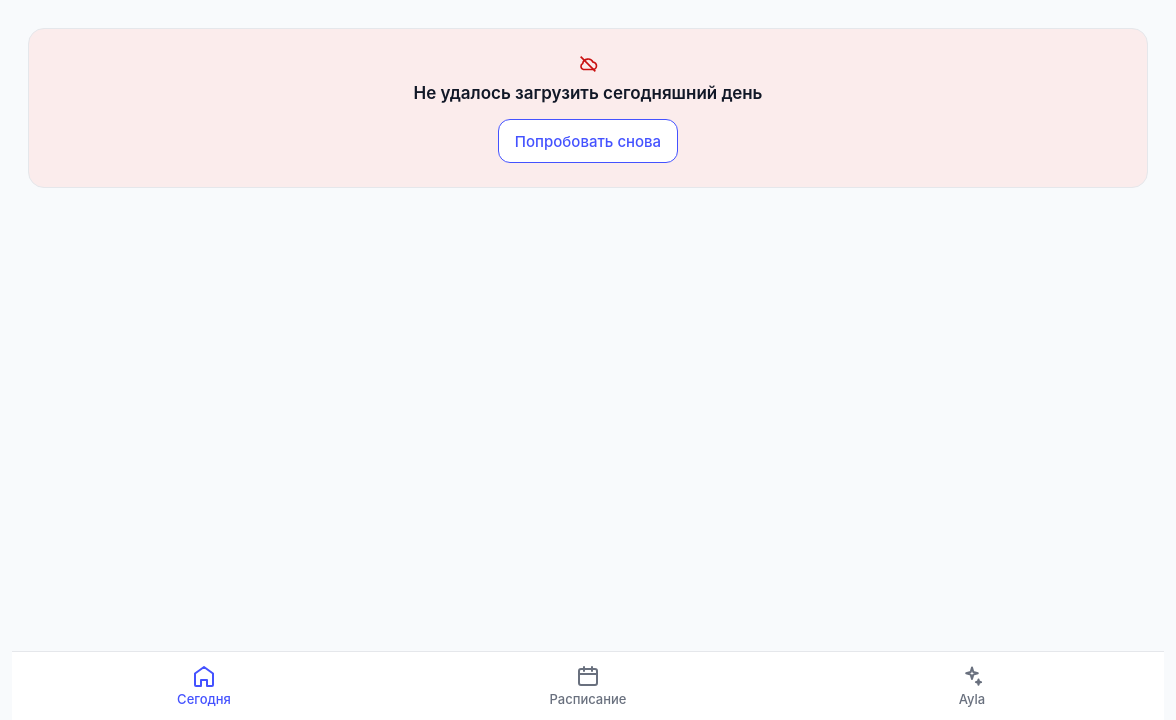
Test: системные состояния — через SystemState по DRF-1181 (М-6, DRF-2157) › первичная ошибка — «Не удалось загрузить» + «Попробовать снова»; старого текста нет
Expected: the message shows "Не удалось загрузить сегодняшний день", [414,83,762,103]
Click the button "Попробовать снова" at (588, 141), box [498,119,678,163]
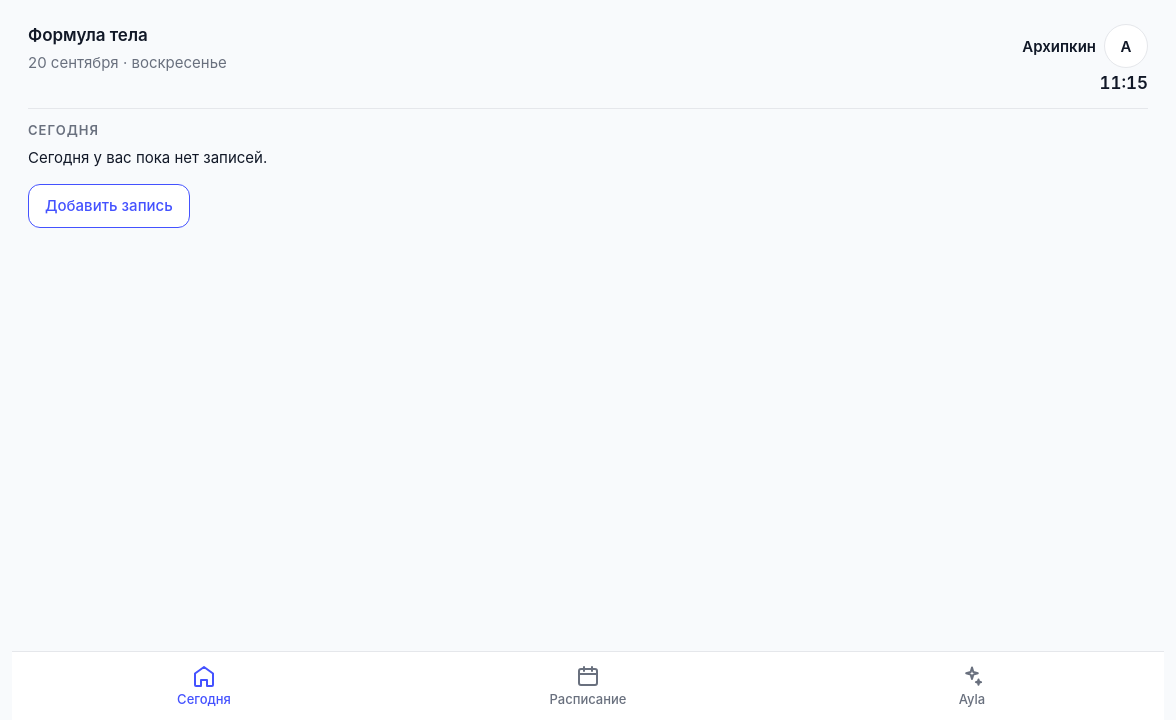
Now the element "Сегодня Сегодня у вас пока нет записей. Добавить запись" is shown, box [28,122,267,228]
